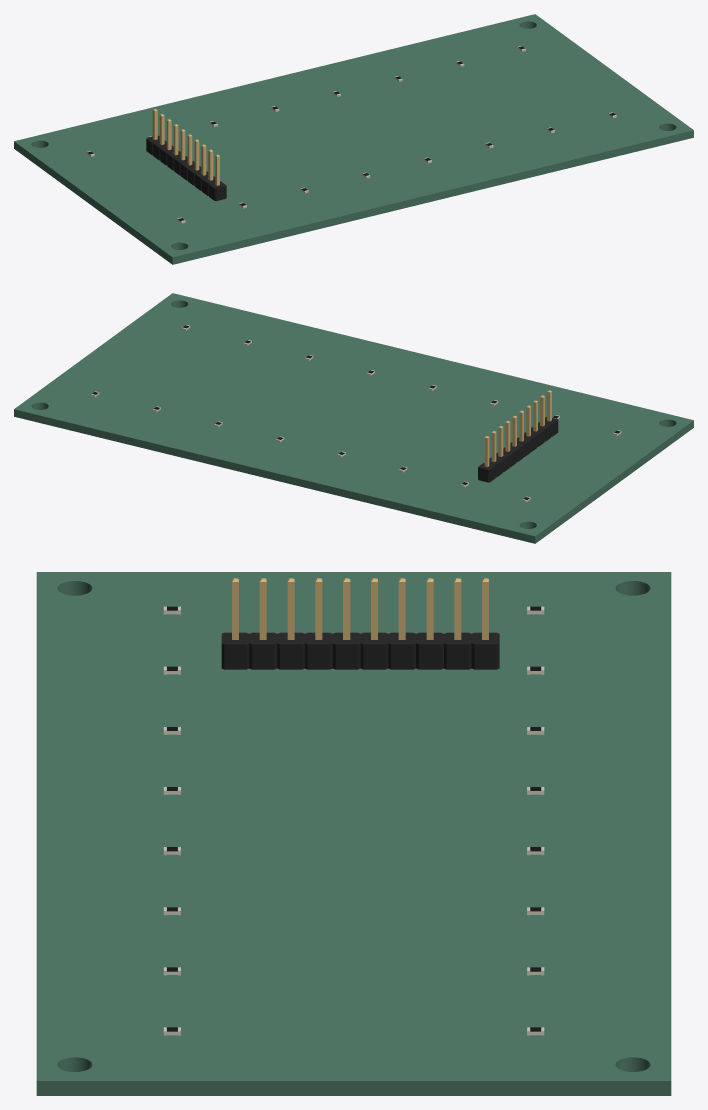
The model's file is carrier_devkit_8x8.glb.
The picture shows the model from 3 angles, top to bottom: view 1: azimuth 30°, elevation 25°; view 2: azimuth 150°, elevation 25°; view 3: azimuth 270°, elevation 25°; orthographic projection. The views are drawn at different scales.
Visible parts, largest first — view 1: =>[0:1:1:6], =>[0:1:1:5]; view 2: =>[0:1:1:6], =>[0:1:1:5]; view 3: =>[0:1:1:6], =>[0:1:1:5].
Part boxes in pixels (bbox=[...]): =>[0:1:1:6]: bbox=[14, 14, 693, 264]; =>[0:1:1:5]: bbox=[146, 109, 226, 201]; =>[0:1:1:6]: bbox=[14, 293, 693, 543]; =>[0:1:1:5]: bbox=[478, 390, 558, 482]; =>[0:1:1:6]: bbox=[36, 572, 671, 1095]; =>[0:1:1:5]: bbox=[221, 578, 499, 669].
Size of the model in its own units: 0.11 by 0.0115 by 0.058.
